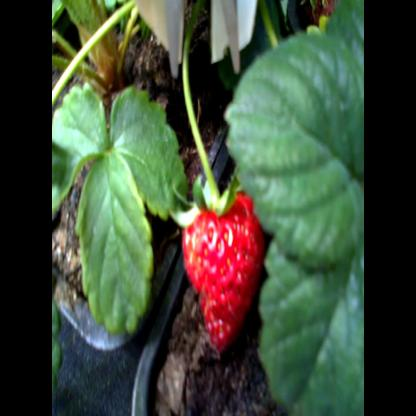ripe: (179, 197, 272, 346)
